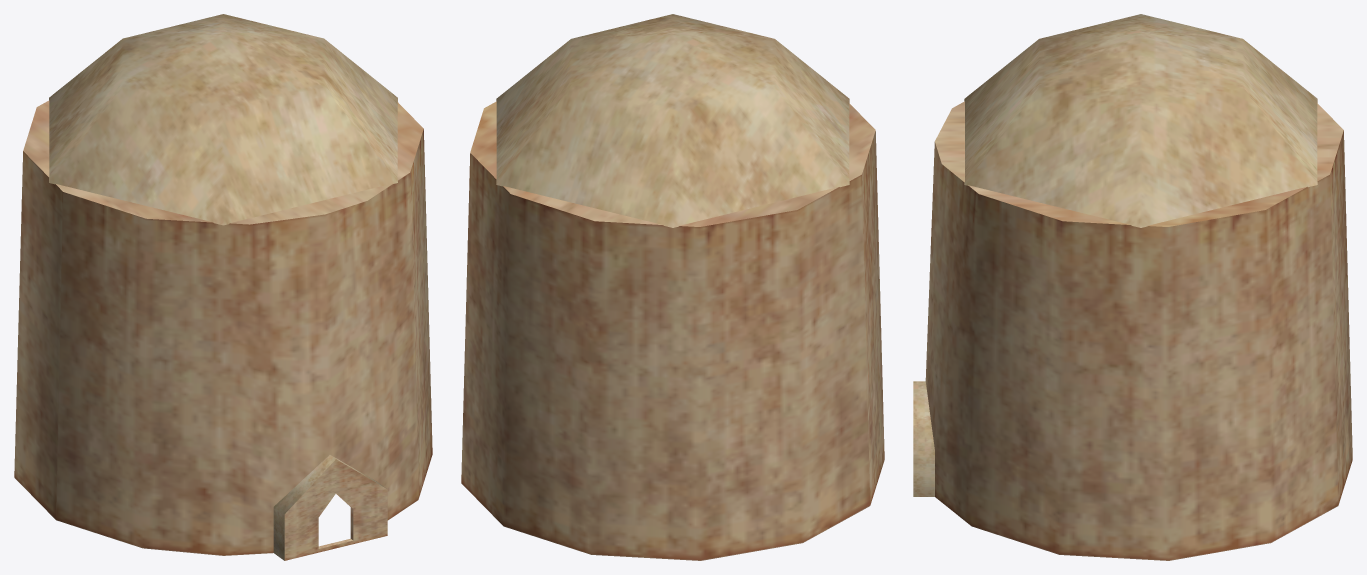
The model's file is thm_tato_imprv_building_s08_r0_mesh_l3.fbx.
The picture shows the model from 3 angles, left to right: view 1: azimuth 30°, elevation 25°; view 2: azimuth 150°, elevation 25°; view 3: azimuth 270°, elevation 25°; orthographic projection.
Parts seen in each view (by area): view 1: mesh_node; view 2: mesh_node; view 3: mesh_node.
Part boxes in pixels (x1,y1,x2,y2): mesh_node: (14,14,432,560); mesh_node: (461,14,884,560); mesh_node: (913,14,1352,560).
Size of the model in its own units: 22.74 by 25.85 by 23.61.
Materials: 1 (1 with a texture image).
